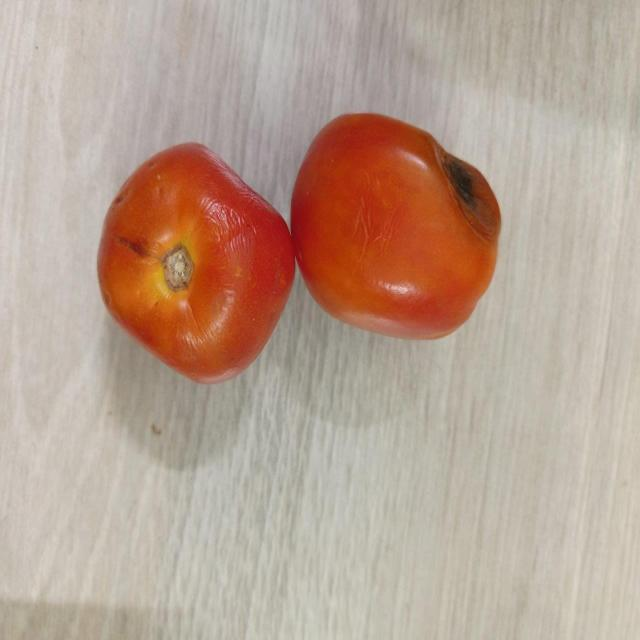Rotten: (292, 113, 502, 340)
